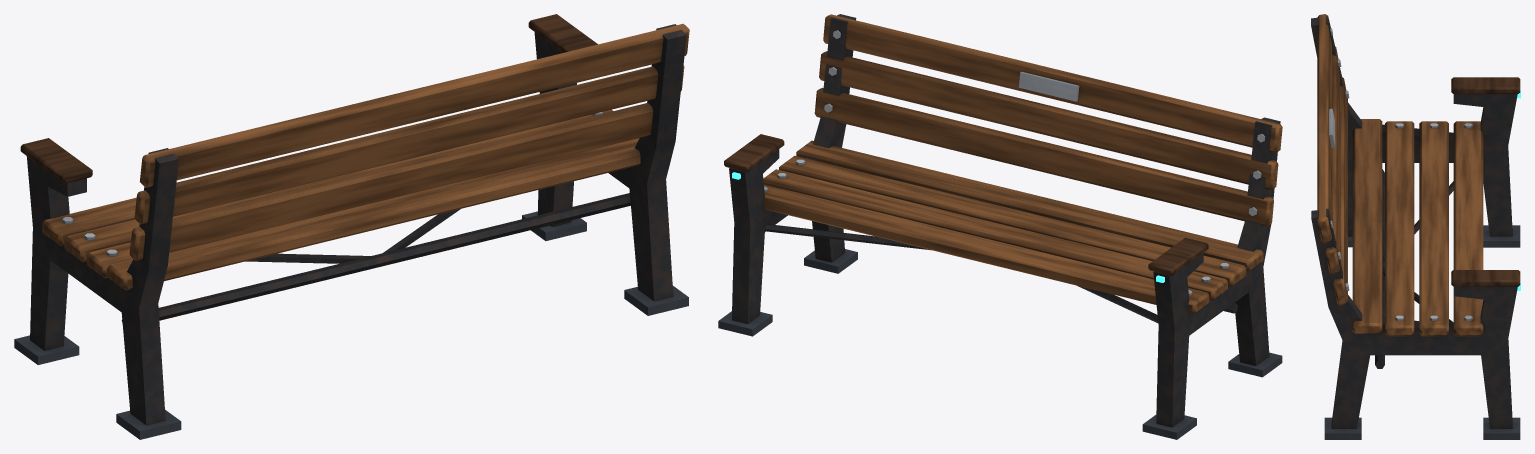
File: banco_parque.fbx
3 renders of one model, left to right at view 1: azimuth 30°, elevation 25°; view 2: azimuth 150°, elevation 25°; view 3: azimuth 270°, elevation 25°, orthographic. The views are drawn at different scales.
Visible parts, largest first — view 1: banco_parque; view 2: banco_parque; view 3: banco_parque.
Boxes of the visible parts, x1=… form: banco_parque: x1=14, y1=14, x2=689, y2=439; banco_parque: x1=718, y1=14, x2=1282, y2=439; banco_parque: x1=1311, y1=14, x2=1520, y2=439.
Bounding box in the file's own units: 4 × 1.97 × 1.71.
Materials: 2 (2 with a texture image).
